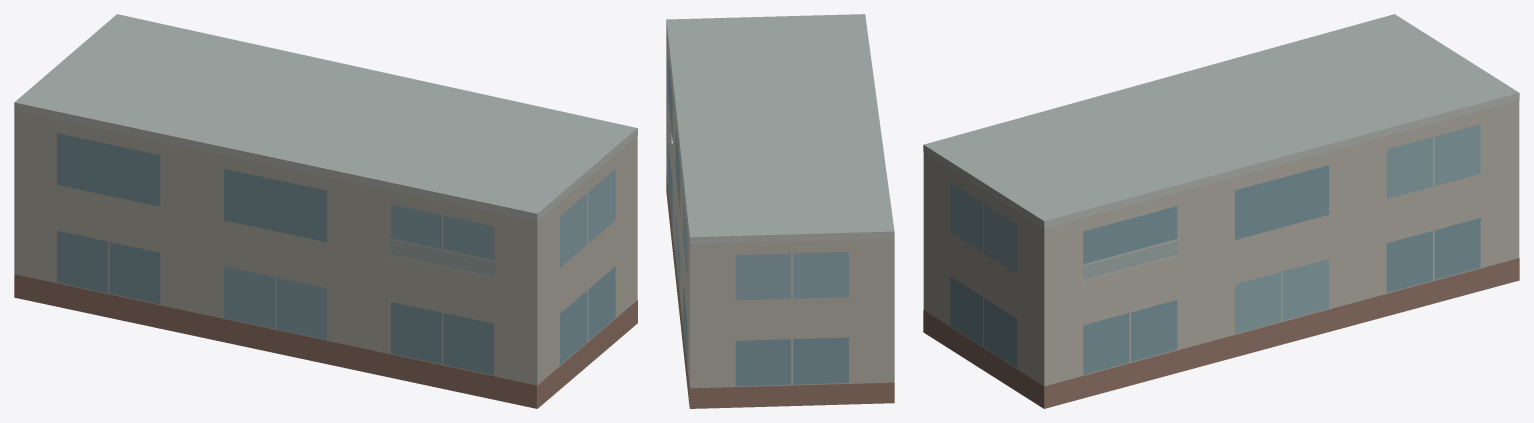
File: survey-upis-33009188.glb
3 renders of one model, left to right at view 1: azimuth 30°, elevation 25°; view 2: azimuth 150°, elevation 25°; view 3: azimuth 270°, elevation 25°, orthographic. The views are drawn at different scales.
Parts seen in each view (by area): view 1: survey-upis-33009188.tmp; view 2: survey-upis-33009188.tmp; view 3: survey-upis-33009188.tmp.
Part boxes in pixels (left/top/right/bottom): survey-upis-33009188.tmp: left=14, top=14, right=637, bottom=408; survey-upis-33009188.tmp: left=666, top=14, right=894, bottom=408; survey-upis-33009188.tmp: left=923, top=14, right=1519, bottom=408.
Size of the model in its own units: 14.45 by 6.1 by 17.57.
